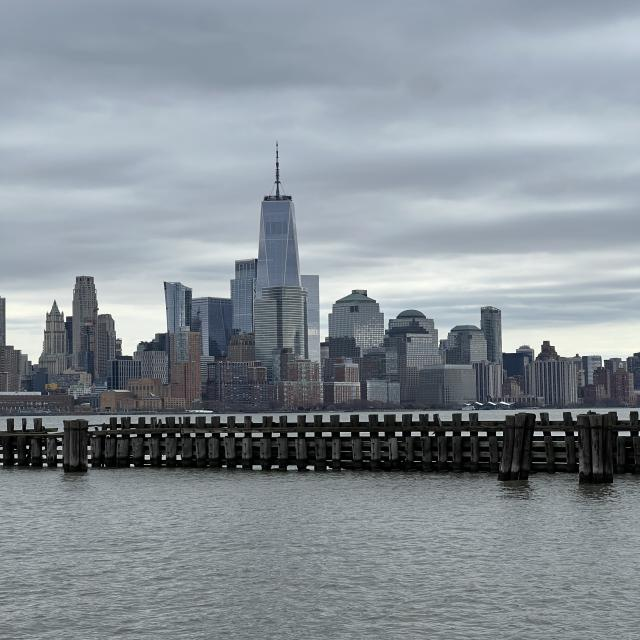WTC: (256, 139, 300, 285)
